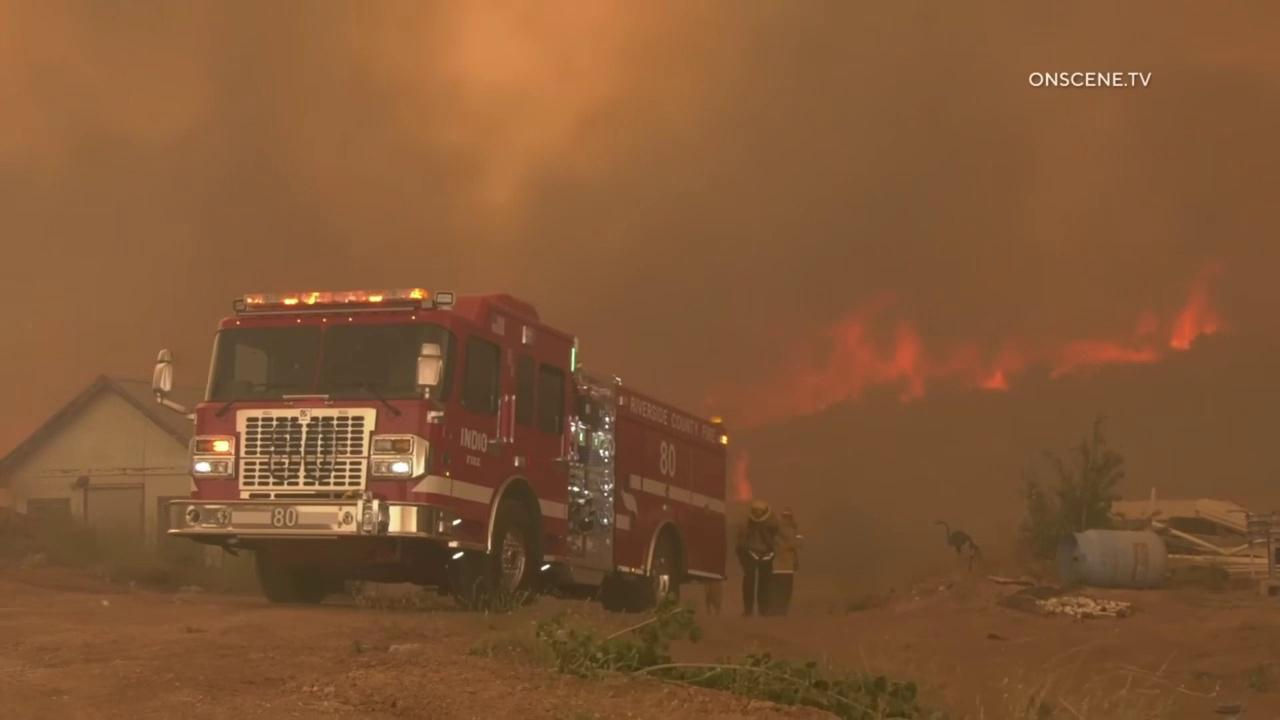fire: (726, 261, 1233, 432), (731, 449, 756, 502)
smoke: (0, 0, 1280, 620)
